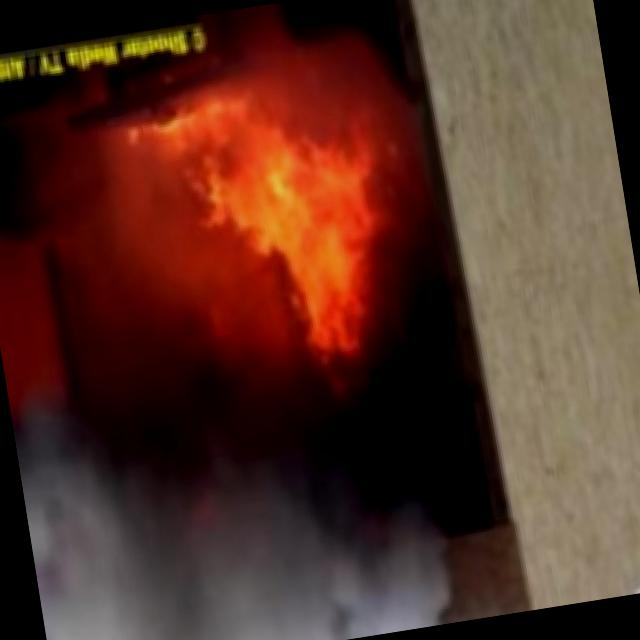fire: (134, 70, 418, 404)
